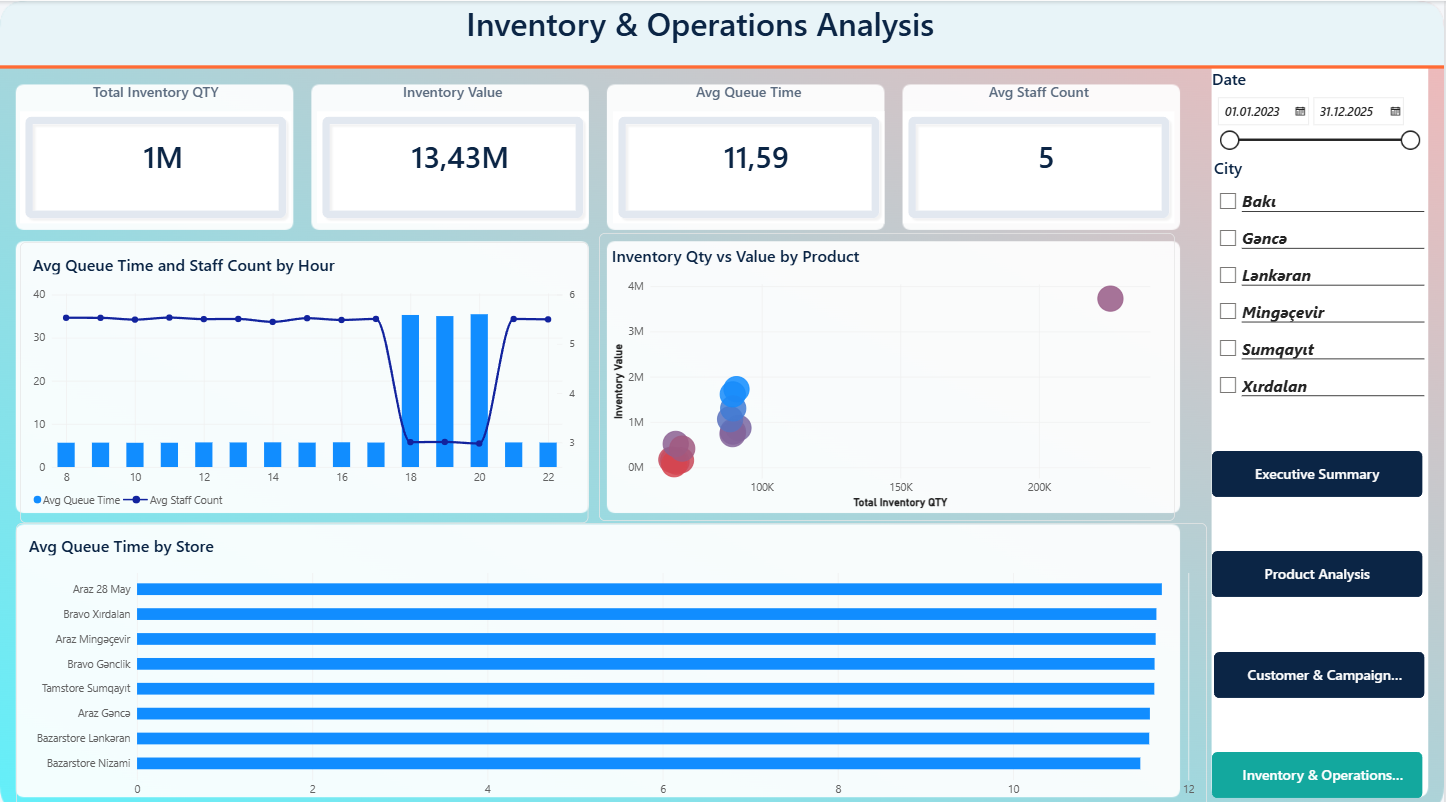

Layout of this report page (visuals, bound fields, positions):
{"tool":"powerbi","page":{"name":"Inventory & Operations Analysis","canvas":[1920,1080],"ordinal":3},"visuals":[{"type":"cardVisual","title":"Total Inventory QTY","fields":{"Data":["Ölçülər.Total Inventory QTY"]},"box":[27.1,107.1,361.2,188.8],"z":0},{"type":"cardVisual","title":"Avg Queue Time","fields":{"Data":["Ölçülər.Avg Queue Time"]},"box":[814.8,107.1,361,188],"z":1000},{"type":"cardVisual","title":"Avg Staff Count","fields":{"Data":["Ölçülər.Avg Staff Count"]},"box":[1201.4,107.1,361,188],"z":2000},{"type":"cardVisual","title":"Inventory Value","fields":{"Data":["Ölçülər.Inventory Value"]},"box":[421.1,107.5,361,188],"z":3000},{"type":"textbox","box":[377.1,0,1107.1,88.6],"z":4000},{"type":"slicer","title":"Date","fields":{"Values":["DimDate.Date"]},"box":[1611.4,88.6,280,112.9],"z":5000},{"type":"slicer","title":"City","fields":{"Values":["DimStore.City"]},"box":[1614.3,207.1,280,332.9],"z":6000},{"type":"actionButton","title":"OVERVIEW","box":[1614.3,865.2,280,61.4],"z":7000},{"type":"actionButton","title":"OVERVIEW","box":[1611.4,598.6,280,61.4],"z":8000},{"type":"actionButton","title":"OVERVIEW","box":[1611.4,998.6,280,61.4],"z":9000},{"type":"actionButton","title":"OVERVIEW","box":[1611.4,731.9,280,61.4],"z":10000},{"type":"lineClusteredColumnComboChart","title":"Avg Queue Time and Staff Count by Hour","fields":{"Category":["FactOperations.Hour"],"Y":["Ölçülər.Avg Queue Time"],"Y2":["Ölçülər.Avg Staff Count"]},"box":[27.1,320,755.7,374.3],"z":11000},{"type":"scatterChart","title":"Inventory Qty vs Value by Product","fields":{"Category":["DimProduct.ProductName"],"X":["Ölçülər.Total Inventory QTY"],"Y":["Ölçülər.Inventory Value"]},"box":[797.1,308.6,765.7,382.9],"z":12000},{"type":"clusteredBarChart","title":"Avg Queue Time by Store","fields":{"Category":["DimStore.StoreName"],"Y":["Ölçülər.Avg Queue Time"]},"box":[21.4,694.3,1584.3,385.7],"z":13000}]}

Visuals, with their boxes in screenshot pixels (x1, y1, x2, y2), scaled from the page's 1920x1080 canvas onto the 1446x802 screenshot:
"Total Inventory QTY" cardVisual: x1=20 y1=80 x2=292 y2=220
"Avg Queue Time" cardVisual: x1=614 y1=80 x2=886 y2=219
"Avg Staff Count" cardVisual: x1=905 y1=80 x2=1177 y2=219
"Inventory Value" cardVisual: x1=317 y1=80 x2=589 y2=219
textbox: x1=284 y1=0 x2=1118 y2=66
"Date" slicer: x1=1214 y1=66 x2=1424 y2=150
"City" slicer: x1=1216 y1=154 x2=1427 y2=401
"OVERVIEW" actionButton: x1=1216 y1=642 x2=1427 y2=688
"OVERVIEW" actionButton: x1=1214 y1=445 x2=1424 y2=490
"OVERVIEW" actionButton: x1=1214 y1=742 x2=1424 y2=787
"OVERVIEW" actionButton: x1=1214 y1=544 x2=1424 y2=589
"Avg Queue Time and Staff Count by Hour" lineClusteredColumnComboChart: x1=20 y1=238 x2=590 y2=516
"Inventory Qty vs Value by Product" scatterChart: x1=600 y1=229 x2=1177 y2=514
"Avg Queue Time by Store" clusteredBarChart: x1=16 y1=516 x2=1209 y2=801
